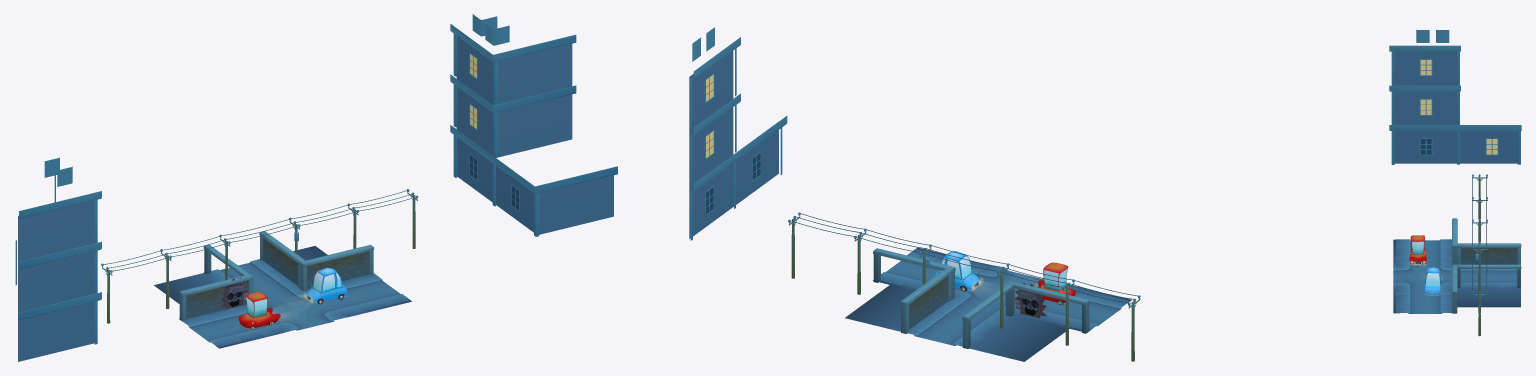
The model's file is UrbanRoadIntersection.prefab.glb.
3 renders of one model, left to right at view 1: azimuth 30°, elevation 25°; view 2: azimuth 150°, elevation 25°; view 3: azimuth 270°, elevation 25°, orthographic. The views are drawn at different scales.
Parts seen in each view (by area): view 1: FarBackBuilding02, UrbanRoadIntersection, Road01, BrickWall (2), BrickWall (3), BrickWall, Car1Body, Car2Body, Graffiti08, BrickWall (1); view 2: FarBackBuilding02, Road01, UrbanRoadIntersection, BrickWall, Car1Body, BrickWall (1), Car2Body, BrickWall (2), BrickWall (3), Graffiti08; view 3: FarBackBuilding02, UrbanRoadIntersection, Road01, BrickWall (1), Car2Body, BrickWall, Car1Body, BrickWall (2), BrickWall (3), TelegraphPole02 (4), TelegraphPole01, TelegraphPole02 (3) (+1 smaller).
Boxes of the visible parts, x1,y1,x2,y2 form: FarBackBuilding02: [15, 14, 617, 361]; UrbanRoadIntersection: [179, 273, 411, 348]; Road01: [154, 246, 327, 303]; BrickWall (2): [299, 244, 374, 290]; BrickWall (3): [179, 274, 253, 320]; BrickWall: [259, 231, 304, 288]; Car1Body: [305, 267, 347, 304]; Car2Body: [238, 292, 280, 330]; Graffiti08: [219, 277, 248, 309]; BrickWall (1): [203, 244, 249, 276]; FarBackBuilding02: [689, 27, 787, 240]; Road01: [845, 285, 1069, 361]; UrbanRoadIntersection: [873, 247, 1131, 332]; BrickWall: [900, 268, 951, 333]; Car1Body: [934, 251, 980, 291]; BrickWall (1): [962, 283, 1013, 348]; Car2Body: [1037, 262, 1075, 305]; BrickWall (2): [873, 248, 955, 299]; BrickWall (3): [1008, 281, 1089, 333]; Graffiti08: [1014, 282, 1046, 318]; FarBackBuilding02: [1389, 29, 1521, 164]; UrbanRoadIntersection: [1393, 239, 1456, 313]; Road01: [1457, 269, 1520, 307]; BrickWall (1): [1457, 243, 1521, 264]; Car2Body: [1409, 235, 1426, 266]; BrickWall: [1457, 264, 1521, 287]; Car1Body: [1424, 267, 1441, 295]; BrickWall (2): [1452, 264, 1457, 313]; BrickWall (3): [1452, 218, 1457, 264]; TelegraphPole02 (4): [1472, 291, 1487, 336]; TelegraphPole01: [1472, 246, 1487, 289]; TelegraphPole02 (3): [1472, 174, 1487, 218].
Size of the model in its own units: 76.34 by 27.69 by 18.69.
10 materials, 9 textured.
